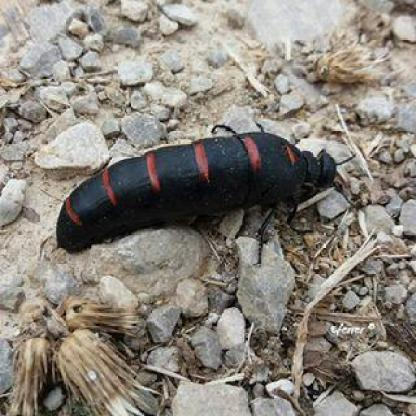beetle: (56, 121, 358, 238)
